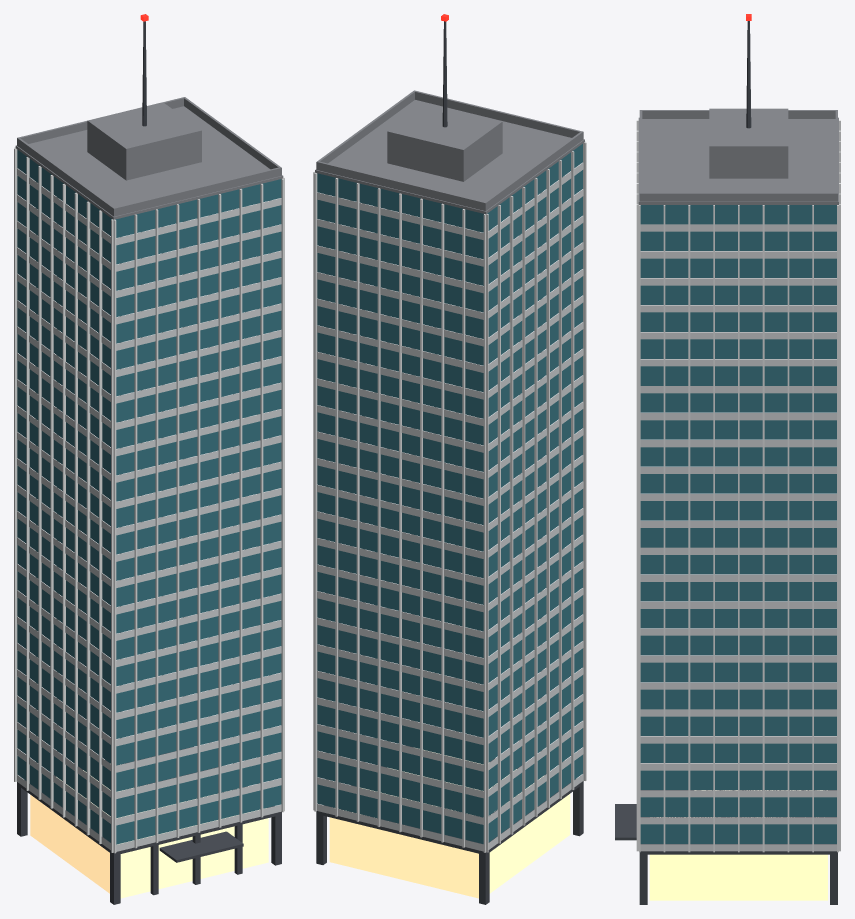
The model's file is bld_dt_tower_a.glb.
3 views of the same model, side by side, from view 1: azimuth 30°, elevation 25°; view 2: azimuth 150°, elevation 25°; view 3: azimuth 270°, elevation 25° (orthographic). The views are drawn at different scales.
Parts seen in each view (by area): view 1: bld_dt_tower_a; view 2: bld_dt_tower_a; view 3: bld_dt_tower_a.
Part boxes in pixels (left/top/right/bottom): bld_dt_tower_a: left=14, top=14, right=284, bottom=904; bld_dt_tower_a: left=313, top=14, right=586, bottom=904; bld_dt_tower_a: left=615, top=14, right=840, bottom=904.
Size of what is drawn, in the model's own units: 20.6 by 94.4 by 22.8.
